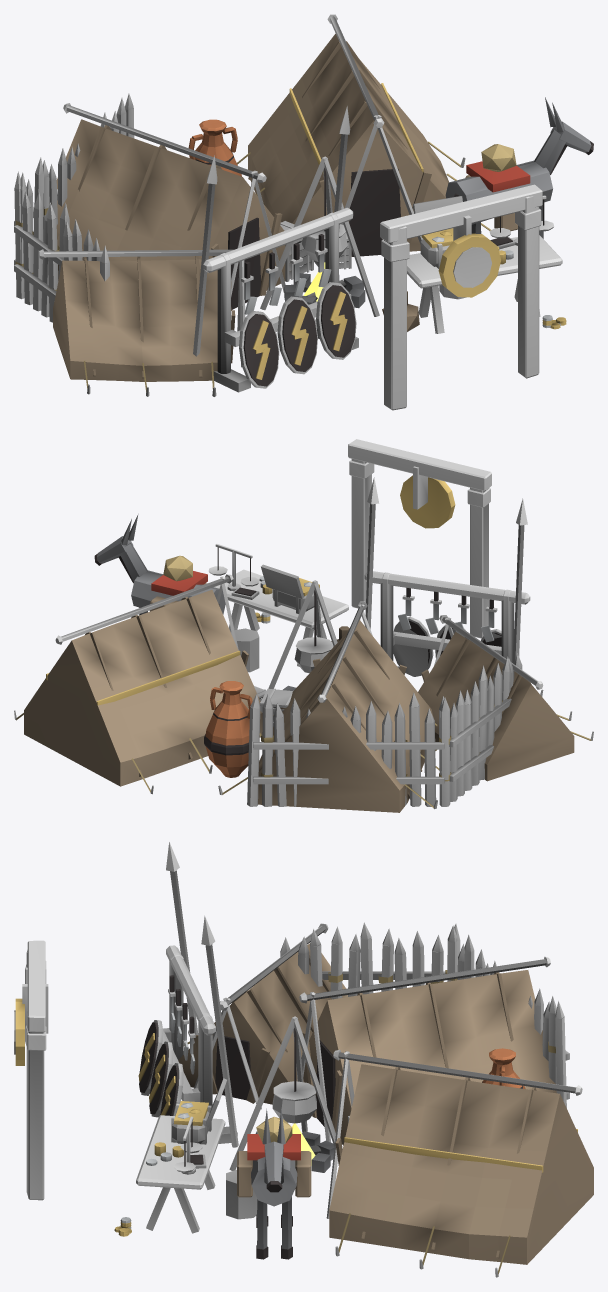
Rendered from misthophoros-camp-l2.glb.
3 renders of one model, top to bottom at view 1: azimuth 30°, elevation 25°; view 2: azimuth 150°, elevation 25°; view 3: azimuth 270°, elevation 25°, orthographic. The views are drawn at different scales.
Parts seen in each view (by area): view 1: misthophoros-camp-l2; view 2: misthophoros-camp-l2; view 3: misthophoros-camp-l2.
Part boxes in pixels (x1,y1,x2,y2): misthophoros-camp-l2: [14, 14, 593, 410]; misthophoros-camp-l2: [14, 439, 593, 812]; misthophoros-camp-l2: [14, 842, 593, 1277].
Bounding box in the file's own units: 1.61 × 0.6768 × 1.51.
